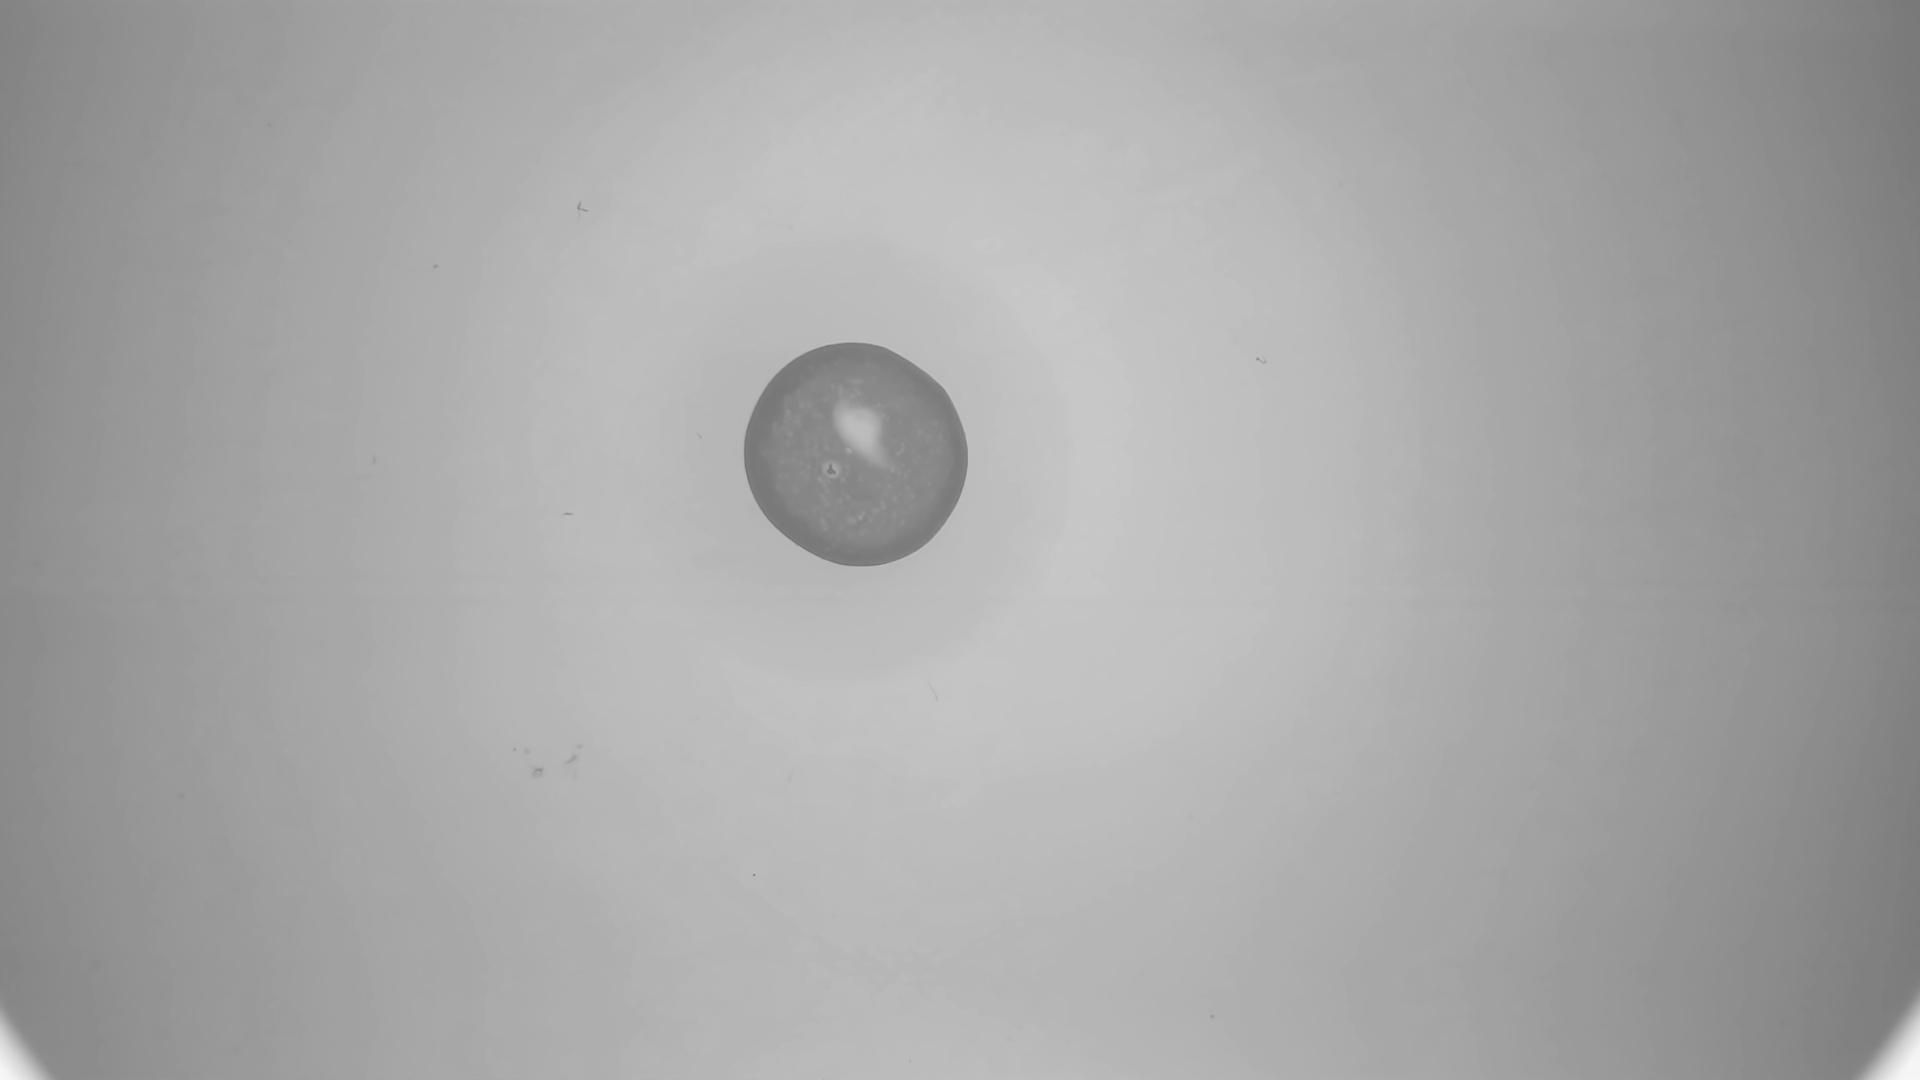abnormal: (741, 342, 973, 574)
